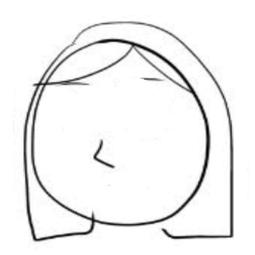eyebrow: (60, 81, 98, 93), (137, 75, 165, 81)
pointy_nose: (90, 133, 120, 174)
